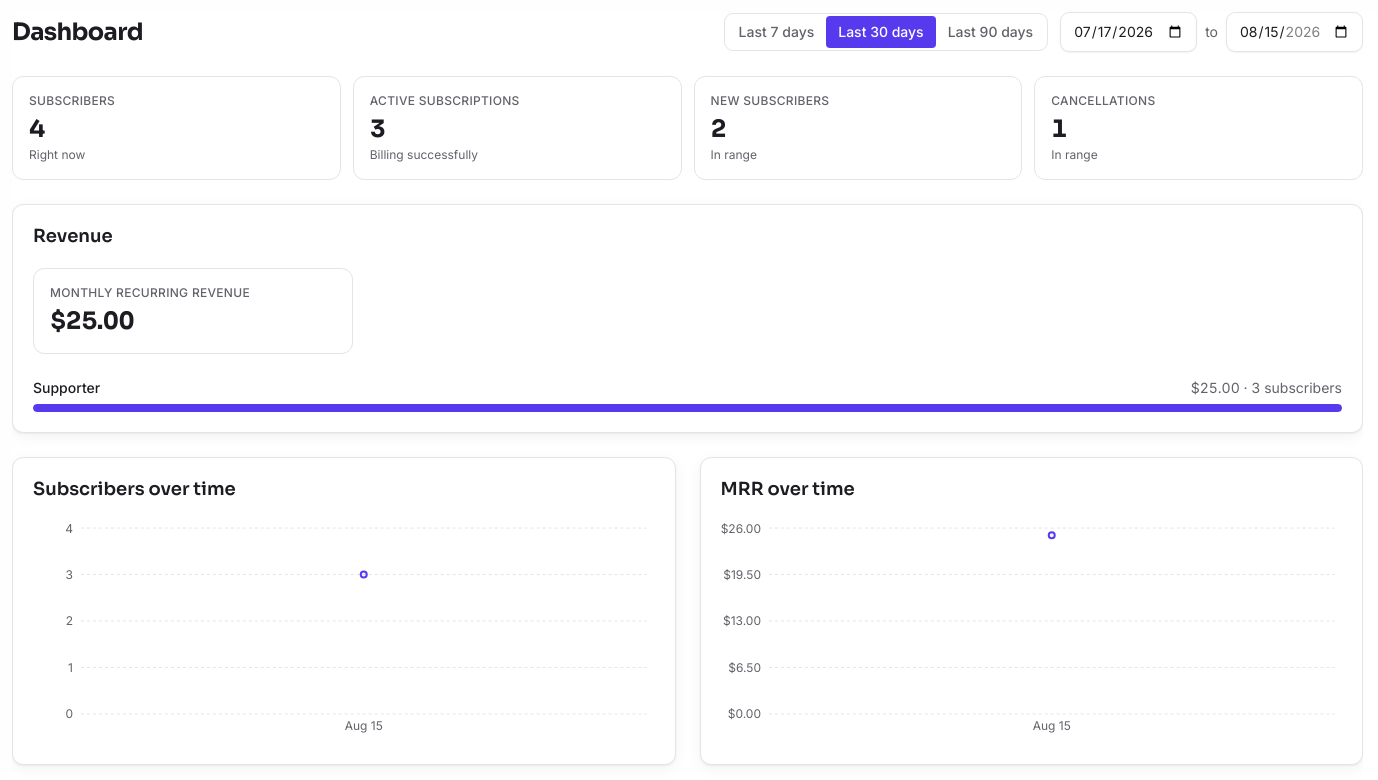
Test case: DashboardClient › refetches the dashboard when the date range preset changes
Click the button "Last 7 days" at (776, 32), box [727,16,826,48]
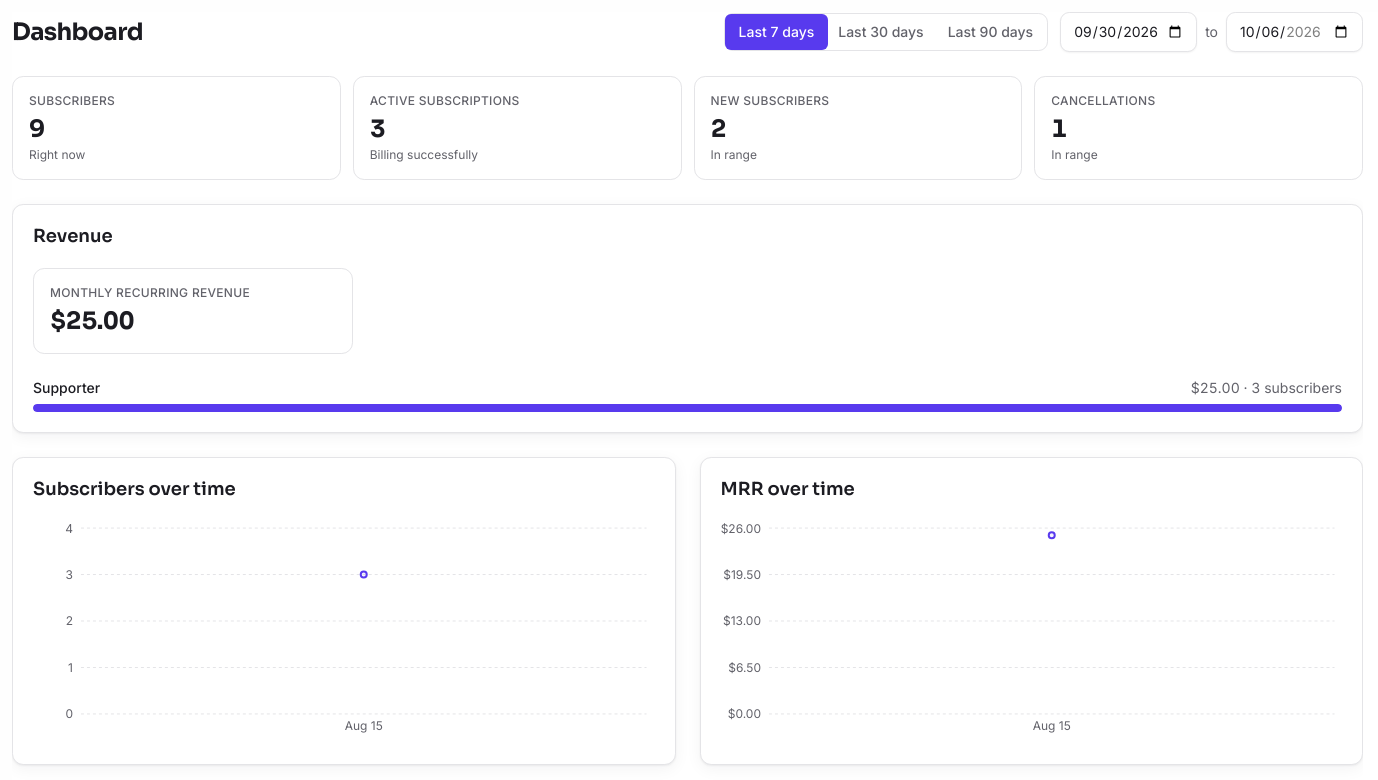
Expected: the text "9" is shown, [29,114,45,144]
